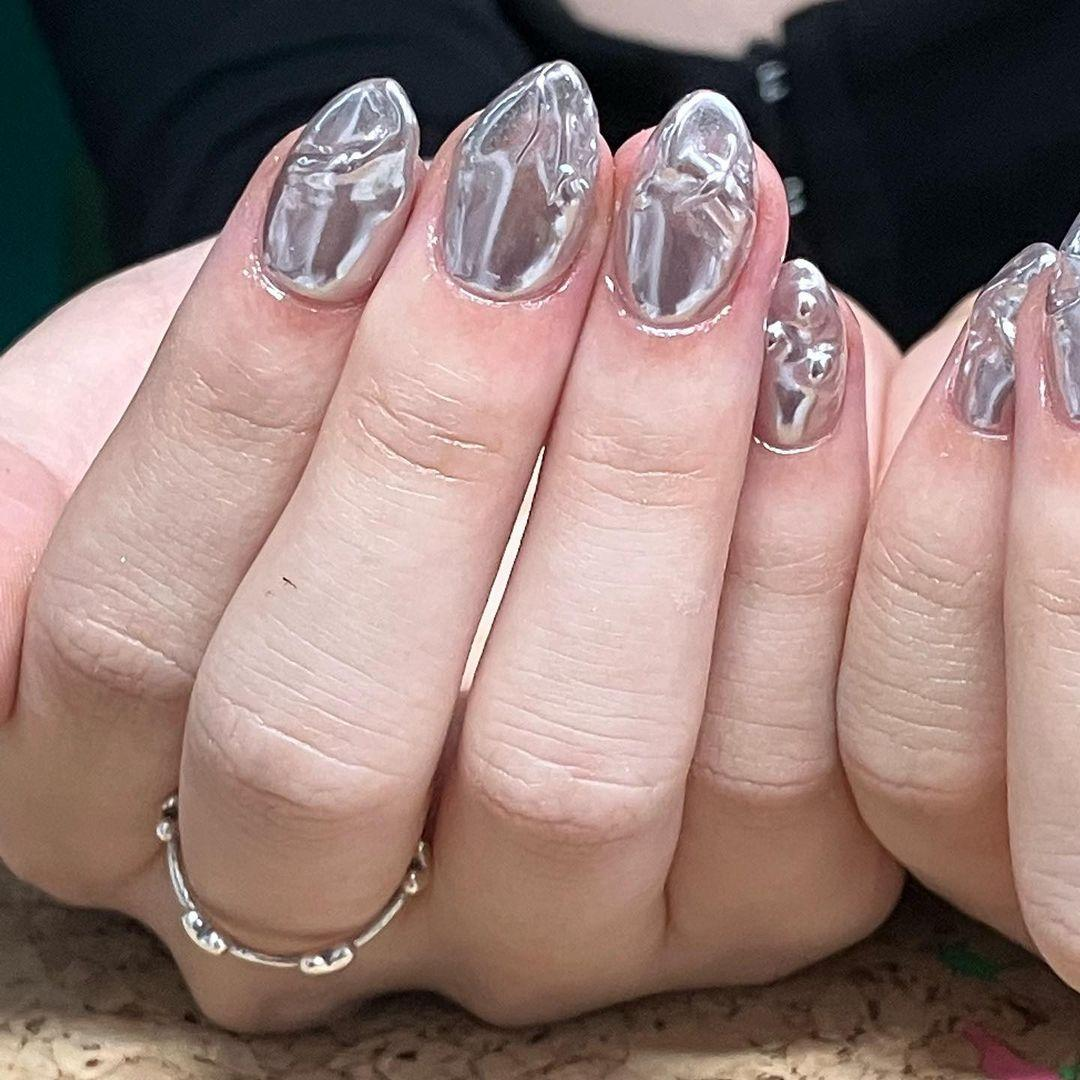nail: (434, 58, 600, 304), (253, 75, 421, 307), (615, 87, 758, 329), (947, 240, 1058, 438), (750, 256, 849, 454)
